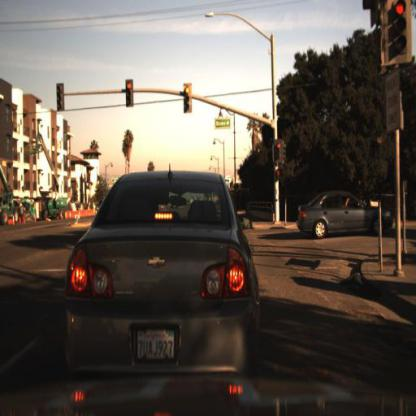car: (55, 162, 266, 414), (294, 187, 395, 238)
pedestrian: (18, 201, 26, 224)
trafficLight: (183, 82, 193, 116), (54, 83, 66, 111)
trafficLight-Red: (381, 1, 416, 77), (274, 134, 285, 169), (124, 77, 135, 108)
